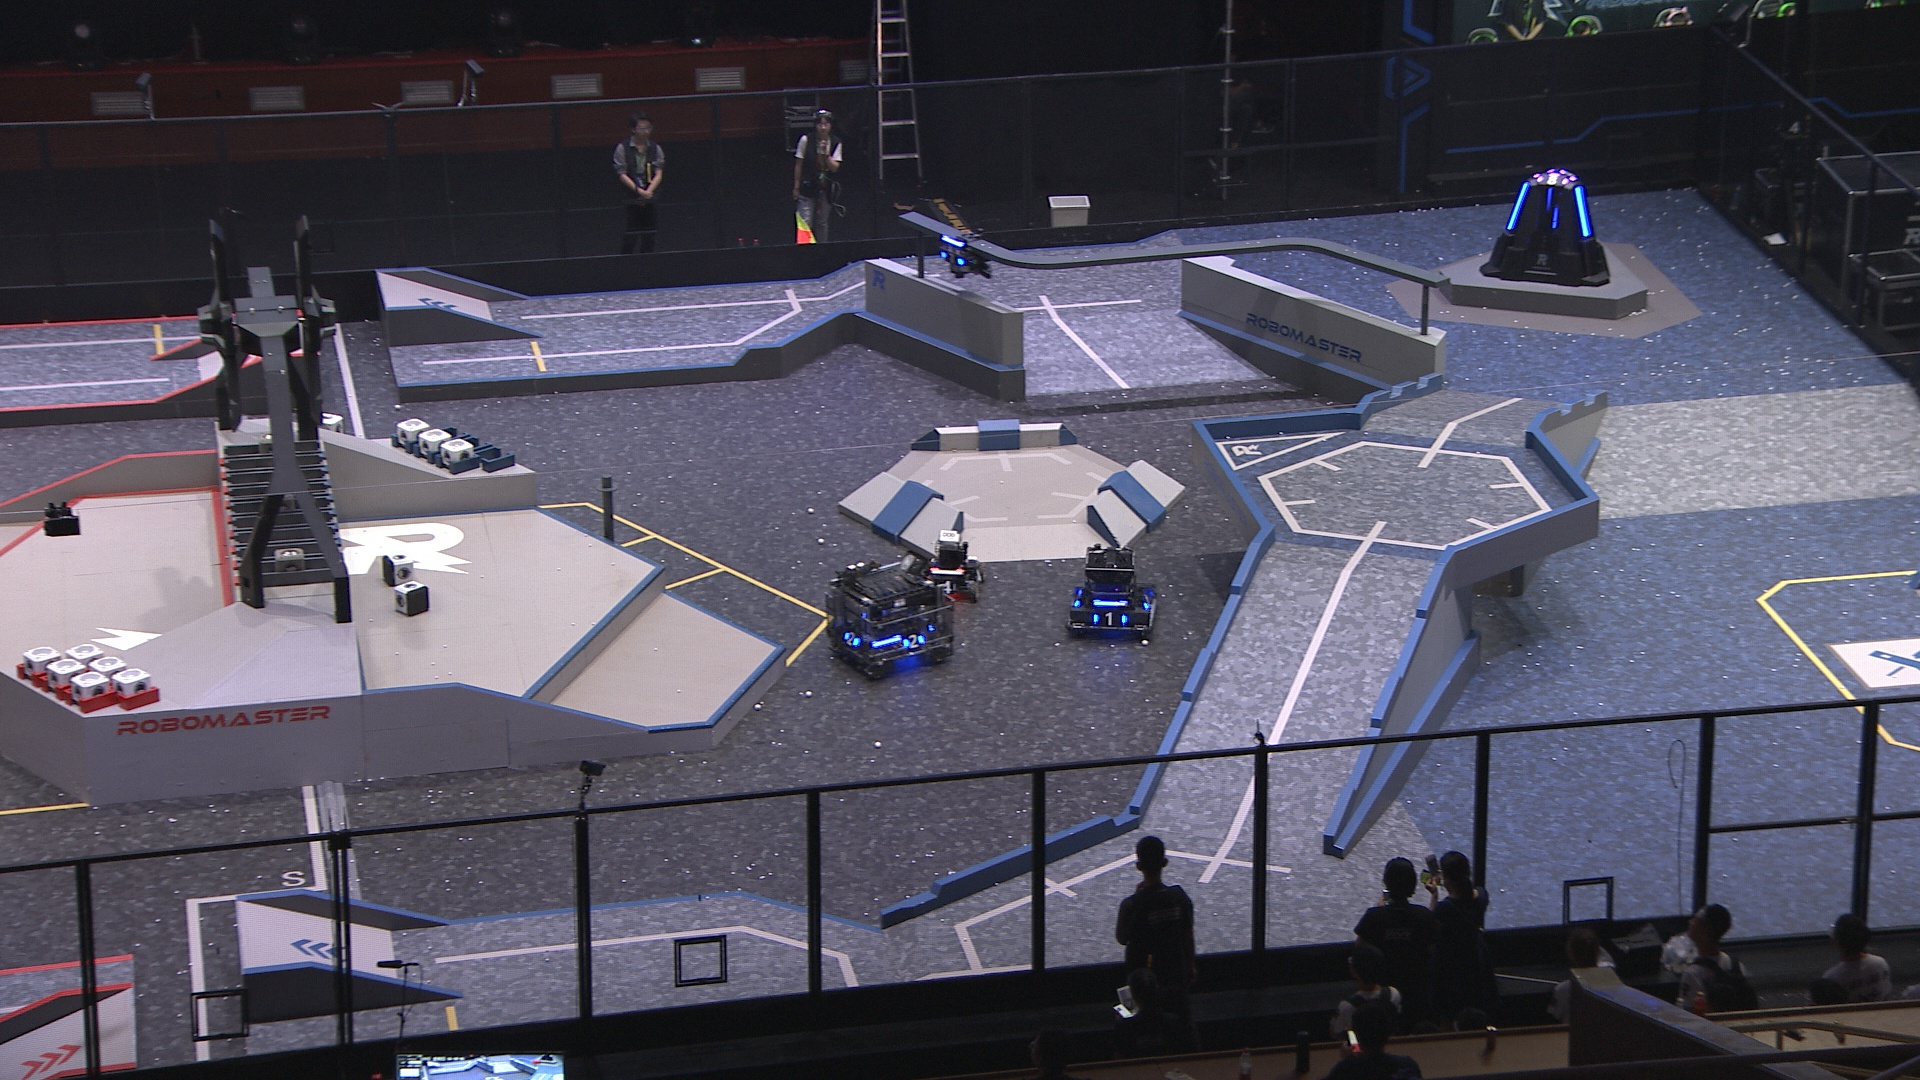armor: (1505, 182, 1528, 232), (1575, 186, 1592, 235), (1092, 611, 1130, 628), (939, 251, 965, 268), (901, 636, 924, 651), (939, 580, 957, 597), (841, 632, 860, 647), (1139, 593, 1153, 609), (975, 568, 986, 585), (1552, 207, 1560, 229)
base: (1477, 167, 1617, 289)
car: (820, 545, 957, 676), (1062, 542, 1166, 640), (915, 529, 992, 603)
ignore: (1536, 173, 1571, 187)
watcher: (934, 225, 994, 281)
